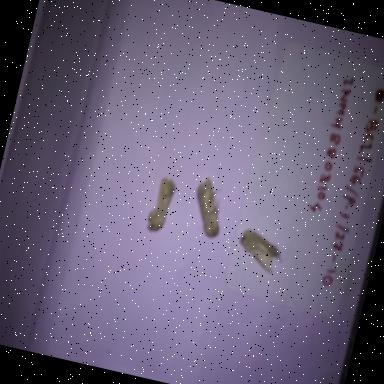abw: (183, 170, 234, 243), (227, 224, 291, 281), (138, 170, 184, 242)
